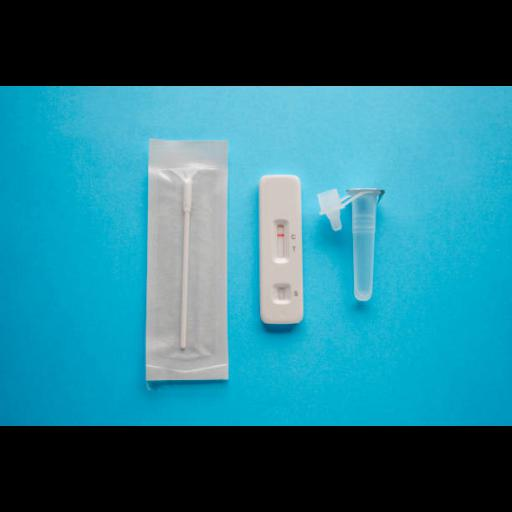Neg: (260, 174, 302, 322)
